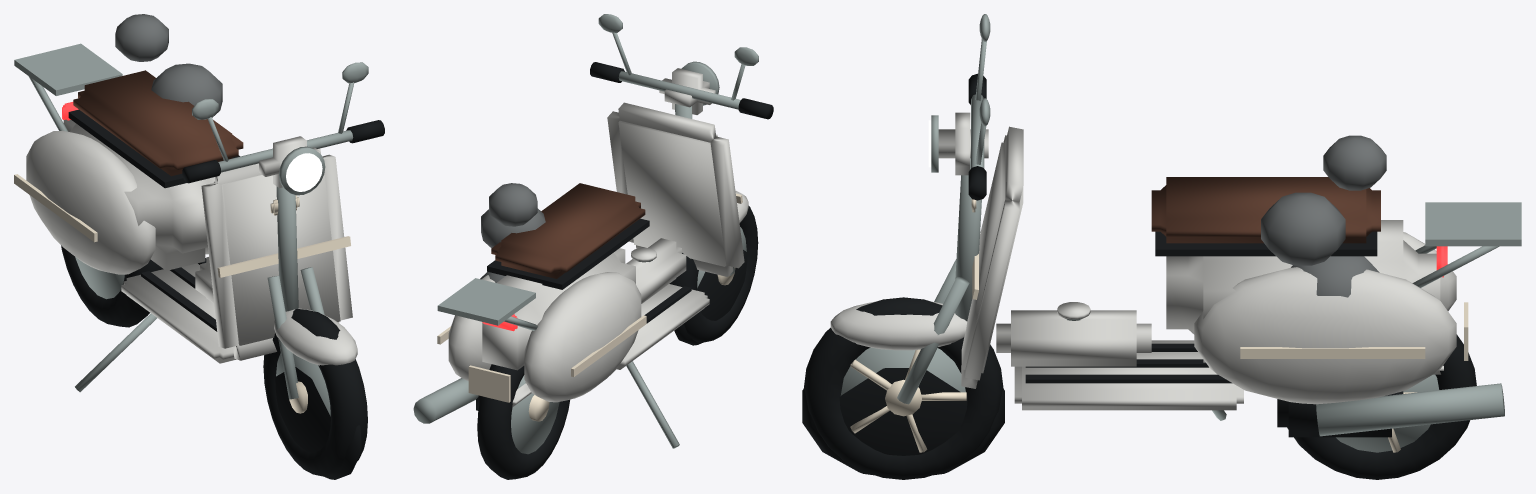
The model's file is oc_scooter_01.glb.
3 views of the same model, side by side, from view 1: azimuth 30°, elevation 25°; view 2: azimuth 150°, elevation 25°; view 3: azimuth 270°, elevation 25° (orthographic). The views are drawn at different scales.
Parts seen in each view (by area): view 1: Lean_OC_Paint_Body, Seat_OC_Seat_Vinyl, Steering_OC_Brushed_Metal, Wheel_F_OC_Rubber, Damage_Engine_OC_Damage_Smoke, Lean_OC_Brushed_Metal, Steering_OC_Paint_Body, Damage_Tyre_F_OC_Rubber, Wheel_R_OC_Rubber, Lean_OC_Coast_Trim, Seat_OC_Rubber, Steering_OC_Rubber (+5 smaller); view 2: Lean_OC_Paint_Body, Seat_OC_Seat_Vinyl, Lean_OC_Brushed_Metal, Wheel_R_OC_Rubber, Steering_OC_Brushed_Metal, Damage_Engine_OC_Damage_Smoke, Wheel_F_OC_Rubber, Lean_OC_Coast_Trim, Seat_OC_Rubber, Damage_Tyre_F_OC_Rubber, Wheel_R_OC_Brushed_Metal, Steering_OC_Paint_Body (+4 smaller); view 3: Lean_OC_Paint_Body, Wheel_F_OC_Rubber, Lean_OC_Brushed_Metal, Seat_OC_Seat_Vinyl, Damage_Engine_OC_Damage_Smoke, Damage_Tyre_F_OC_Rubber, Steering_OC_Brushed_Metal, Wheel_R_OC_Rubber, Steering_OC_Paint_Body, Lean_OC_Rubber, Lean_OC_Coast_Trim, Seat_OC_Rubber (+4 smaller).
Part boxes in pixels (x1=…): Lean_OC_Paint_Body: x1=26, y1=119, x2=352, y2=363; Seat_OC_Seat_Vinyl: x1=73, y1=70, x2=243, y2=176; Steering_OC_Brushed_Metal: x1=192, y1=62, x2=368, y2=399; Wheel_F_OC_Rubber: x1=263, y1=309, x2=367, y2=476; Damage_Engine_OC_Damage_Smoke: x1=115, y1=14, x2=222, y2=117; Lean_OC_Brushed_Metal: x1=14, y1=43, x2=122, y2=131; Steering_OC_Paint_Body: x1=259, y1=136, x2=357, y2=365; Damage_Tyre_F_OC_Rubber: x1=275, y1=367, x2=362, y2=479; Wheel_R_OC_Rubber: x1=61, y1=245, x2=162, y2=327; Lean_OC_Coast_Trim: x1=14, y1=174, x2=350, y2=277; Seat_OC_Rubber: x1=68, y1=109, x2=239, y2=188; Steering_OC_Rubber: x1=182, y1=120, x2=384, y2=183; Lean_OC_Paint_Body: x1=448, y1=102, x2=744, y2=407; Seat_OC_Seat_Vinyl: x1=491, y1=183, x2=645, y2=278; Lean_OC_Brushed_Metal: x1=413, y1=260, x2=652, y2=423; Wheel_R_OC_Rubber: x1=477, y1=364, x2=569, y2=479; Steering_OC_Brushed_Metal: x1=598, y1=14, x2=758, y2=275; Damage_Engine_OC_Damage_Smoke: x1=480, y1=183, x2=545, y2=282; Wheel_F_OC_Rubber: x1=669, y1=206, x2=758, y2=342; Lean_OC_Coast_Trim: x1=437, y1=193, x2=742, y2=402; Seat_OC_Rubber: x1=487, y1=218, x2=649, y2=289; Damage_Tyre_F_OC_Rubber: x1=674, y1=250, x2=747, y2=345; Wheel_R_OC_Brushed_Metal: x1=511, y1=375, x2=559, y2=454; Steering_OC_Paint_Body: x1=659, y1=68, x2=748, y2=222; Lean_OC_Paint_Body: x1=961, y1=126, x2=1456, y2=410; Wheel_F_OC_Rubber: x1=803, y1=297, x2=1003, y2=479; Lean_OC_Brushed_Metal: x1=1065, y1=202, x2=1521, y2=436; Seat_OC_Seat_Vinyl: x1=1151, y1=177, x2=1380, y2=243; Damage_Engine_OC_Damage_Smoke: x1=1261, y1=135, x2=1386, y2=297; Damage_Tyre_F_OC_Rubber: x1=802, y1=368, x2=1004, y2=475; Steering_OC_Brushed_Metal: x1=897, y1=14, x2=990, y2=404; Wheel_R_OC_Rubber: x1=1287, y1=334, x2=1476, y2=479; Steering_OC_Paint_Body: x1=830, y1=112, x2=988, y2=350; Lean_OC_Rubber: x1=1025, y1=343, x2=1403, y2=437; Lean_OC_Coast_Trim: x1=972, y1=254, x2=1468, y2=360; Seat_OC_Rubber: x1=1155, y1=231, x2=1377, y2=256.
Size of the model in its own units: 0.7191 by 1.25 by 1.94.
